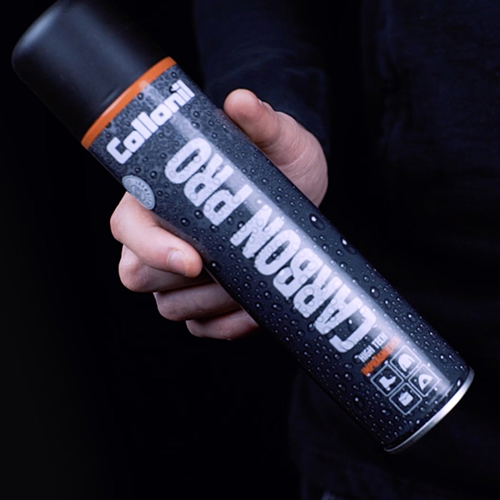Aerosol_cans: (10, 1, 475, 459)
